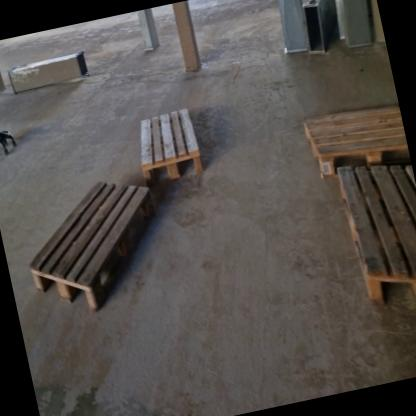BoxFace: (26, 174, 158, 320), (337, 161, 416, 313), (299, 103, 412, 181), (138, 104, 204, 189)
